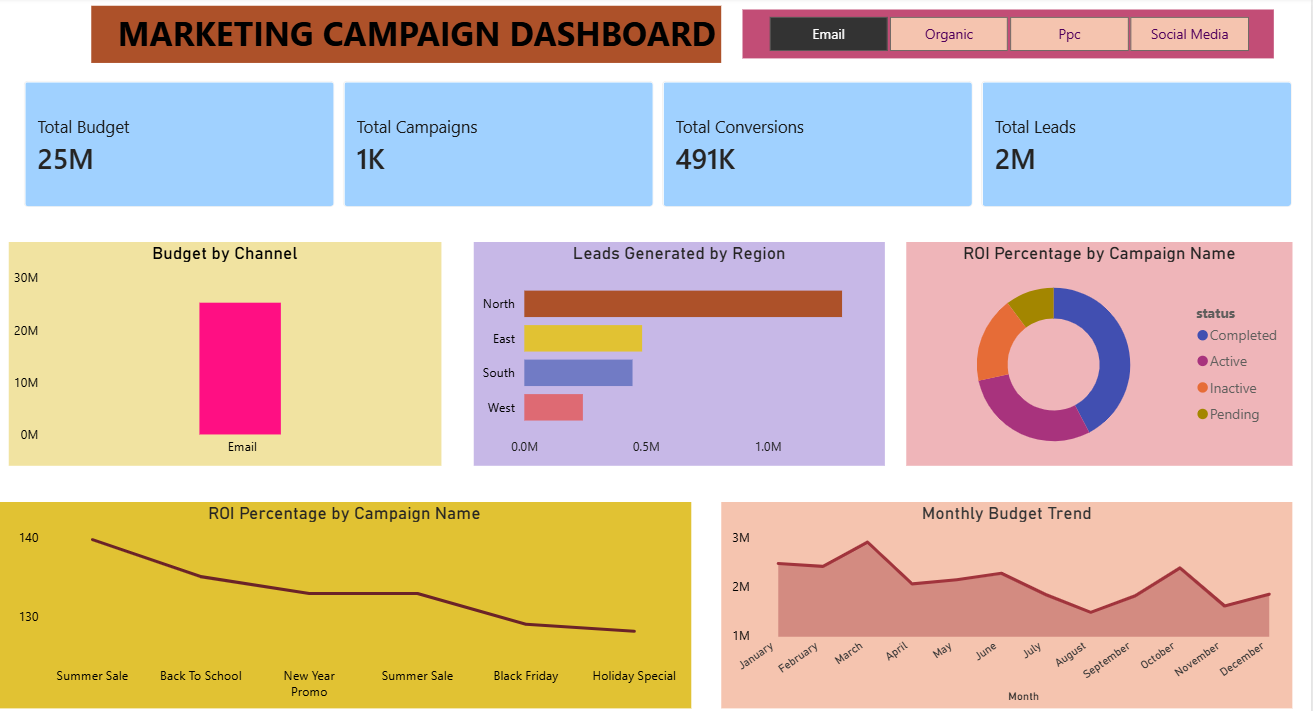

This screenshot's page, from the dashboard's own definition file:
{"tool":"powerbi","page":{"name":"Page 1","canvas":[1280,720],"ordinal":0},"visuals":[{"type":"clusteredColumnChart","title":"Budget by Channel","fields":{"Category":["public marketing_campaign.channel"],"Y":["Sum(public marketing_campaign.budget_usd)"]},"box":[22.9,236.5,417.4,216],"z":0},{"type":"cardVisual","fields":{"Data":["public marketing_campaign.Total Budget","public marketing_campaign.Total Campaigns","public marketing_campaign.Total Conversions","public marketing_campaign.Total Leads"]},"box":[20.5,63.9,1259.5,156.8],"z":1000},{"type":"barChart","title":"Leads Generated by Region","fields":{"Category":["public marketing_campaign.region"],"Y":["Sum(public marketing_campaign.leads_generated)"]},"box":[471.7,236.5,396.9,216],"z":2000},{"type":"lineChart","title":"ROI Percentage by Campaign Name","fields":{"Category":["public marketing_campaign.campaign_name"],"Y":["public marketing_campaign.Average ROI"]},"box":[12.1,487.4,669.6,199.1],"z":3000},{"type":"donutChart","title":"ROI Percentage by Campaign Name","fields":{"Category":["public marketing_campaign.status"],"Y":["CountNonNull(public marketing_campaign.campaign_id)"]},"box":[889.1,236.5,372.8,216],"z":4000},{"type":"areaChart","title":"Monthly Budget Trend","fields":{"Category":["public marketing_campaign.start_date.Variation.Date Hierarchy.Month"],"Y":["Sum(public marketing_campaign.budget_usd)"]},"box":[710.6,487.4,551.3,199.1],"z":5000},{"type":"slicer","fields":{"Values":["public marketing_campaign.channel"]},"box":[731.1,12.1,512.7,47.1],"z":6000},{"type":"textbox","box":[102.5,8.4,608,55.5],"z":7000}]}

Visuals, with their boxes on the page's 1280x720 design canvas (x1, y1, x2, y2). These are canvas units, not pixel positions in the 1313x711 screenshot, which may show the page scaled, cropped or inside an application window:
"Budget by Channel" clusteredColumnChart: x1=23, y1=236, x2=440, y2=452
cardVisual - public marketing_campaign.Total Budget x public marketing_campaign.Total Campaigns: x1=20, y1=64, x2=1280, y2=221
"Leads Generated by Region" barChart: x1=472, y1=236, x2=869, y2=452
"ROI Percentage by Campaign Name" lineChart: x1=12, y1=487, x2=682, y2=686
"ROI Percentage by Campaign Name" donutChart: x1=889, y1=236, x2=1262, y2=452
"Monthly Budget Trend" areaChart: x1=711, y1=487, x2=1262, y2=686
slicer - public marketing_campaign.channel: x1=731, y1=12, x2=1244, y2=59
textbox: x1=102, y1=8, x2=710, y2=64
